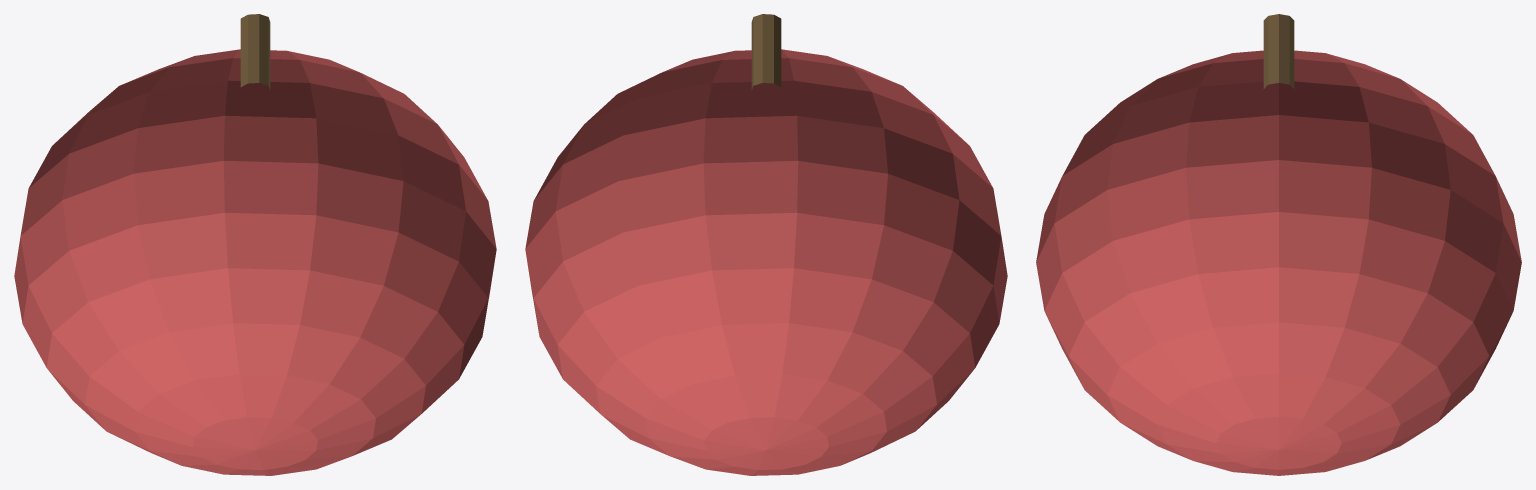
The model's file is 3d-elementary-apple-red-20260125.glb.
The picture shows the model from 3 angles, left to right: view 1: azimuth 30°, elevation 25°; view 2: azimuth 150°, elevation 25°; view 3: azimuth 270°, elevation 25°; orthographic projection.
Parts seen in each view (by area): view 1: Apple; view 2: Apple; view 3: Apple.
Boxes of the visible parts, bbox=[...] form: Apple: bbox=[14, 14, 496, 475]; Apple: bbox=[525, 14, 1007, 475]; Apple: bbox=[1036, 14, 1521, 475].
Size of the model in its own units: 1.6 by 1.56 by 1.6.
